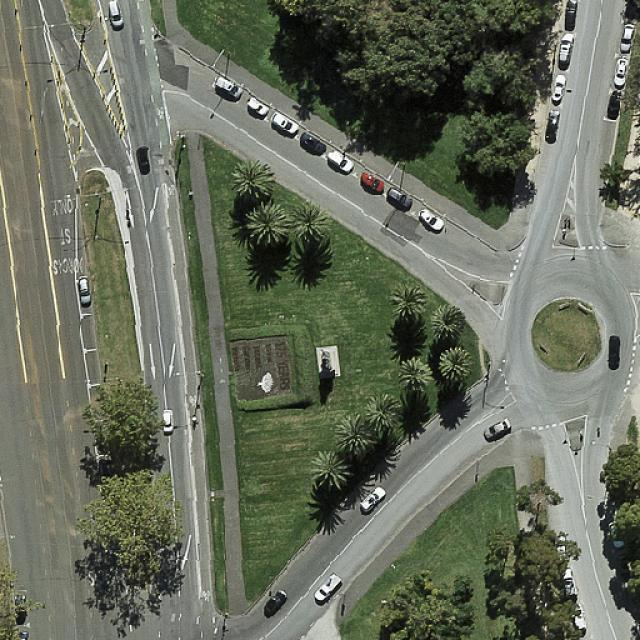Bike-Symbols: (155, 106, 166, 120), (201, 590, 212, 602), (190, 394, 198, 408), (168, 185, 176, 195)
